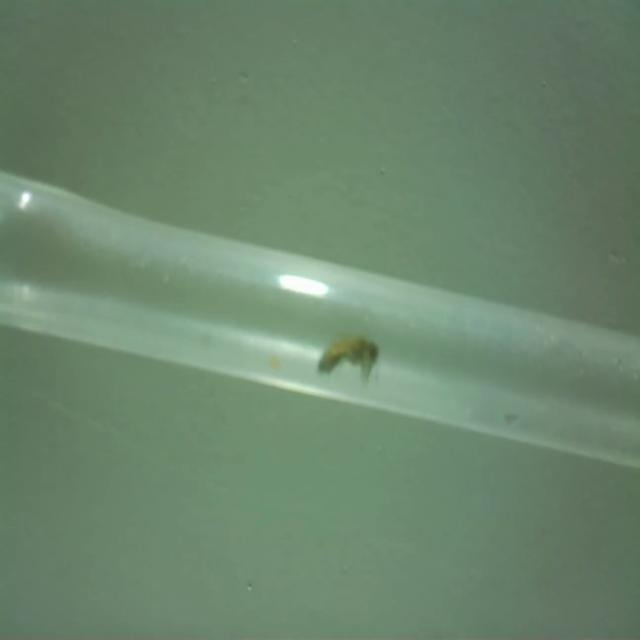Honeybee-Detection: (317, 335, 380, 383)
